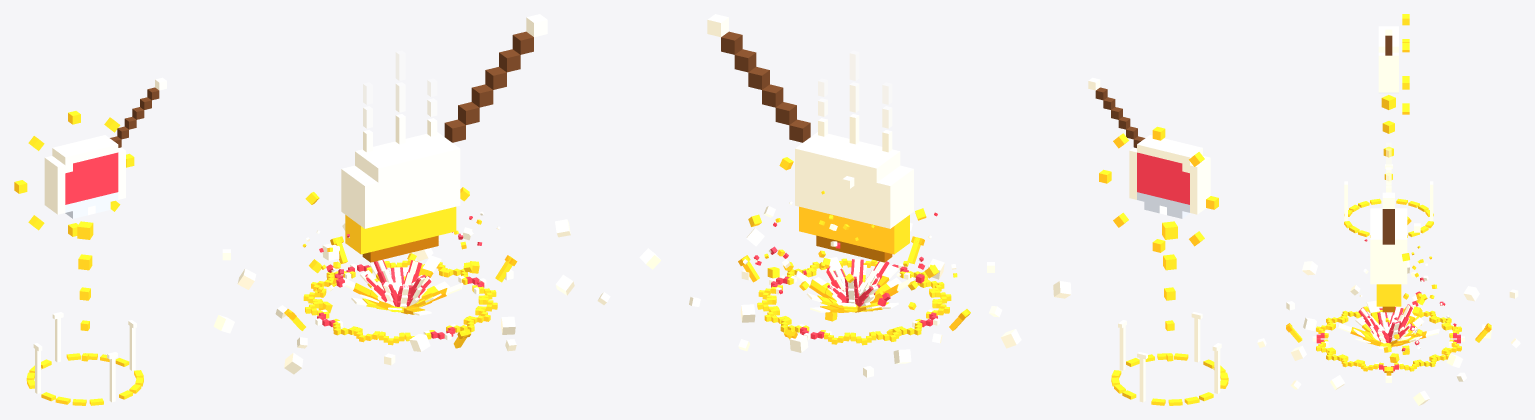
Rendered from fx_execute.glb.
The picture shows the model from 3 angles, left to right: view 1: azimuth 30°, elevation 25°; view 2: azimuth 150°, elevation 25°; view 3: azimuth 270°, elevation 25°; orthographic projection. The views are drawn at different scales.
Parts seen in each view (by area): view 1: drop_cleaver_body_r1c0, drop_cleaver_body_r0c1, drop_cleaver_body_r3c0, drop_cleaver_body_r2c0, drop_cleaver_body_r0c3, drop_cleaver_body_r0c5, drop_cleaver_body_r0c2; view 2: drop_cleaver_body_r1c0, drop_cleaver_body_r0c1, drop_cleaver_body_r3c0, drop_cleaver_body_r2c0, drop_cleaver_body_r0c5, drop_cleaver_body_r0c3, drop_cleaver_body_r0c2; view 3: drop_cleaver_body_r0c6, drop_cleaver_body_r3c6, drop_cleaver_body_r2c6, drop_cleaver_body_r1c6, drop_cleaver_edge_r5c6, drop_cleaver_edge_r4c6.
Part boxes in pixels (x1,y1,x2,y2): drop_cleaver_body_r1c0: [341, 165, 378, 200]; drop_cleaver_body_r0c1: [355, 149, 391, 182]; drop_cleaver_body_r3c0: [341, 197, 378, 228]; drop_cleaver_body_r2c0: [341, 183, 378, 214]; drop_cleaver_body_r0c3: [382, 141, 419, 175]; drop_cleaver_body_r0c5: [410, 134, 446, 169]; drop_cleaver_body_r0c2: [373, 144, 405, 179]; drop_cleaver_body_r1c0: [876, 165, 913, 200]; drop_cleaver_body_r0c1: [863, 149, 900, 182]; drop_cleaver_body_r3c0: [876, 197, 913, 228]; drop_cleaver_body_r2c0: [876, 183, 913, 214]; drop_cleaver_body_r0c5: [808, 134, 845, 169]; drop_cleaver_body_r0c3: [836, 141, 872, 175]; drop_cleaver_body_r0c2: [849, 144, 882, 179]; drop_cleaver_body_r0c6: [1370, 234, 1407, 250]; drop_cleaver_body_r3c6: [1370, 273, 1407, 284]; drop_cleaver_body_r2c6: [1370, 262, 1407, 272]; drop_cleaver_body_r1c6: [1370, 250, 1407, 261]; drop_cleaver_edge_r5c6: [1376, 295, 1401, 306]; drop_cleaver_edge_r4c6: [1376, 284, 1401, 295].
Size of the model in its own units: 8.95 by 4.44 by 4.62.
